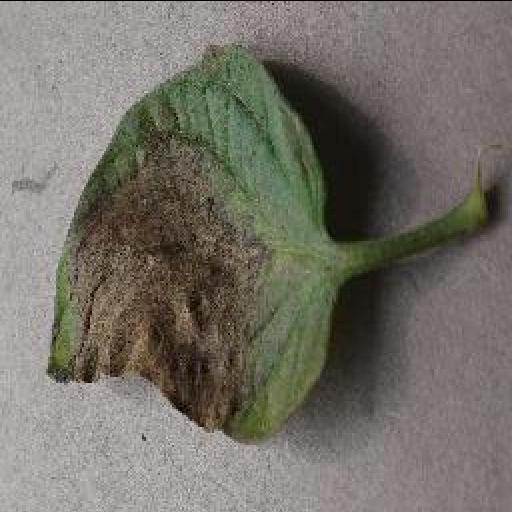disease_tomato: (42, 38, 344, 444)
